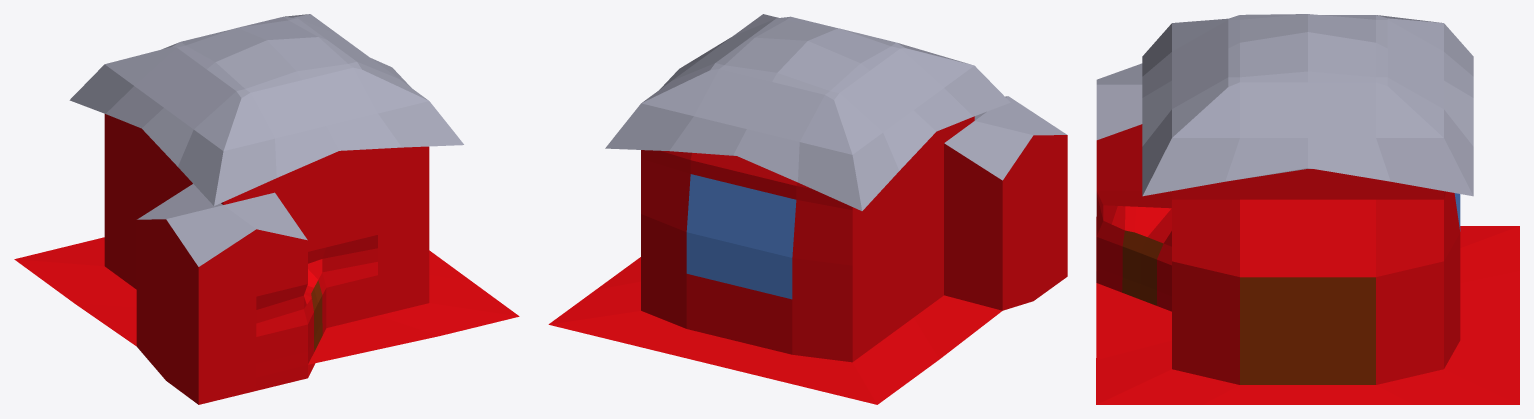
File: HouseFixedAgain.fbx
The picture shows the model from 3 angles, left to right: view 1: azimuth 30°, elevation 25°; view 2: azimuth 150°, elevation 25°; view 3: azimuth 270°, elevation 25°; orthographic projection. The views are drawn at different scales.
Parts seen in each view (by area): view 1: House; view 2: House; view 3: House.
Part boxes in pixels (<box>): House: <box>14,14,519,404</box>; House: <box>548,14,1067,404</box>; House: <box>1096,14,1519,404</box>.
Size of the model in its own units: 174 by 133 by 173.
